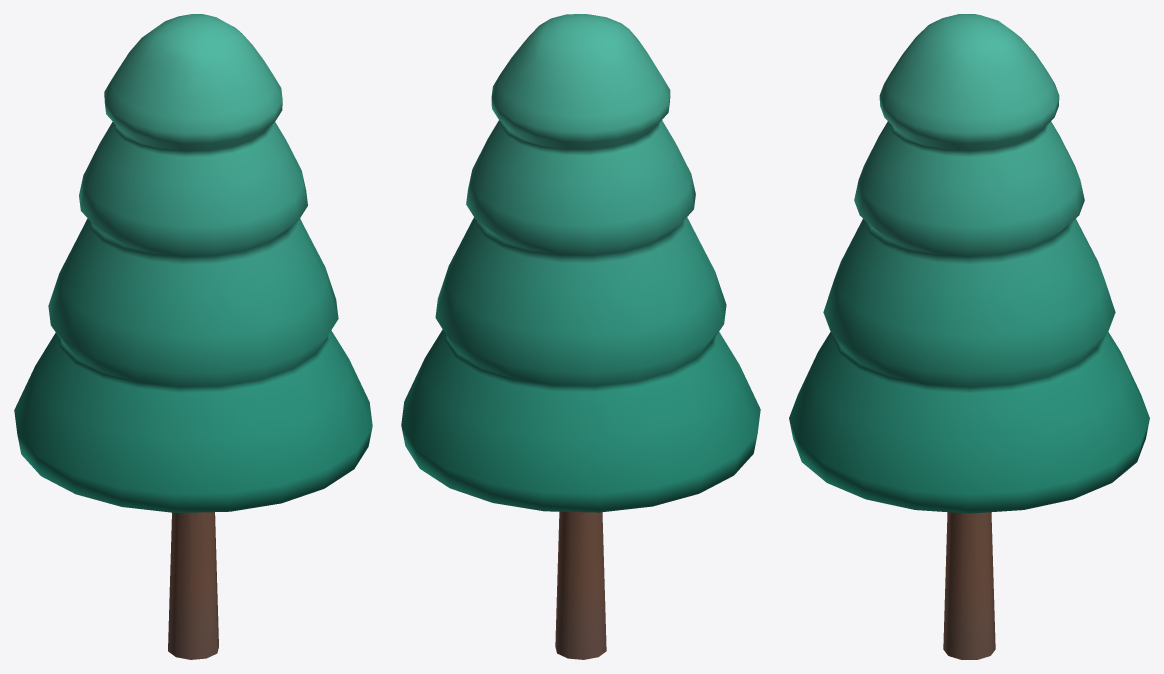
File: Tree2.fbx
The picture shows the model from 3 angles, left to right: view 1: azimuth 30°, elevation 25°; view 2: azimuth 150°, elevation 25°; view 3: azimuth 270°, elevation 25°; orthographic projection.
Parts seen in each view (by area): view 1: Bush, Wood; view 2: Bush, Wood; view 3: Bush, Wood.
Boxes of the visible parts, <box> form: Bush: <box>14,14,372,512</box>; Wood: <box>168,512,218,659</box>; Bush: <box>401,14,760,512</box>; Wood: <box>555,511,606,659</box>; Bush: <box>789,14,1149,513</box>; Wood: <box>943,512,995,659</box>.
Size of the model in its own units: 390 by 750 by 390.
